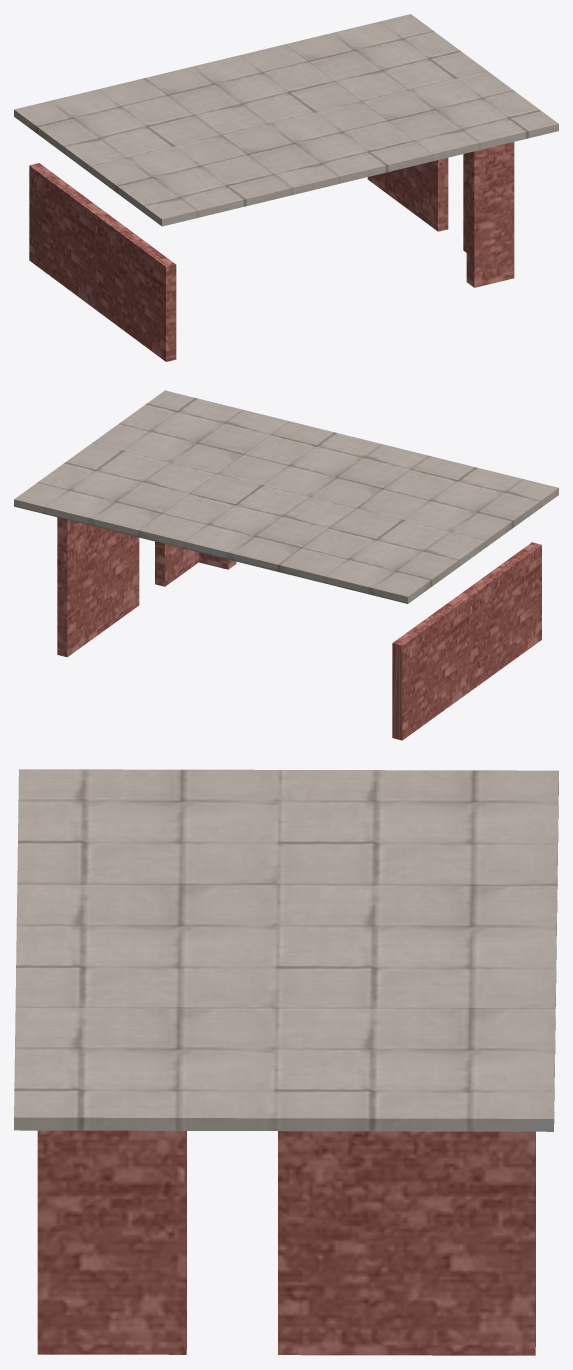
File: Garage.FBX
3 views of the same model, one above another, from view 1: azimuth 30°, elevation 25°; view 2: azimuth 150°, elevation 25°; view 3: azimuth 270°, elevation 25° (orthographic). The views are drawn at different scales.
Parts seen in each view (by area): view 1: FlatHouse; view 2: FlatHouse; view 3: FlatHouse.
Boxes of the visible parts, x1,y1,x2,y2 form: FlatHouse: [14, 14, 558, 361]; FlatHouse: [14, 390, 558, 740]; FlatHouse: [14, 769, 558, 1355].
Size of the model in its own units: 24 by 8.66 by 15.81.
Materials: 1 (1 with a texture image).
